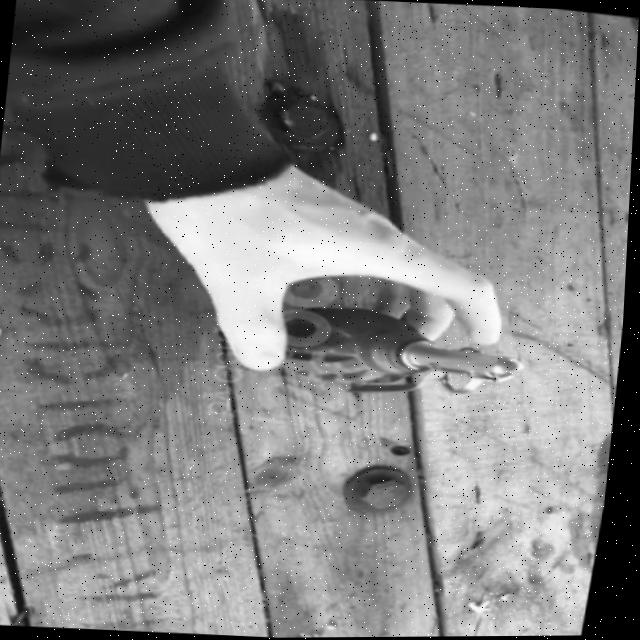grenade: (250, 291, 534, 414)
